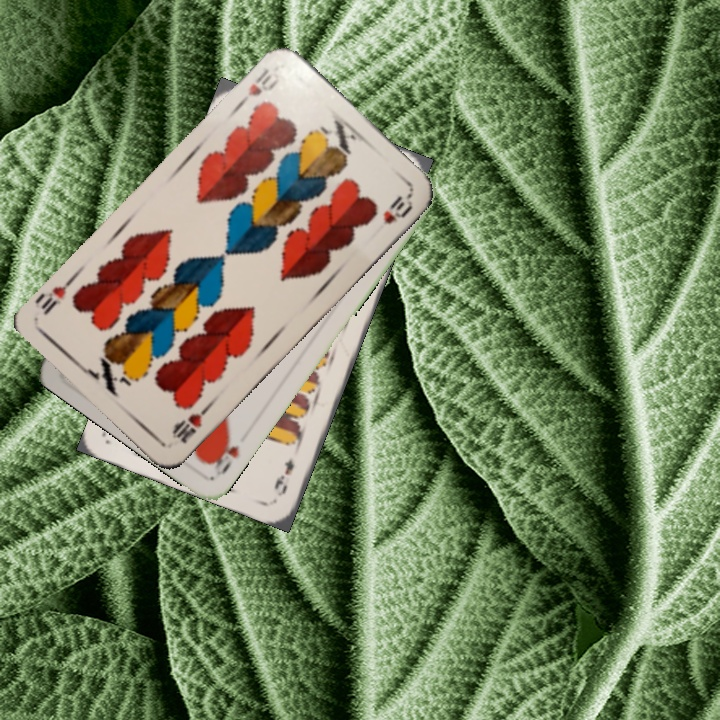E9: (270, 455, 297, 499)
H10: (234, 64, 282, 110), (168, 401, 213, 447)
HO: (205, 429, 242, 478)
